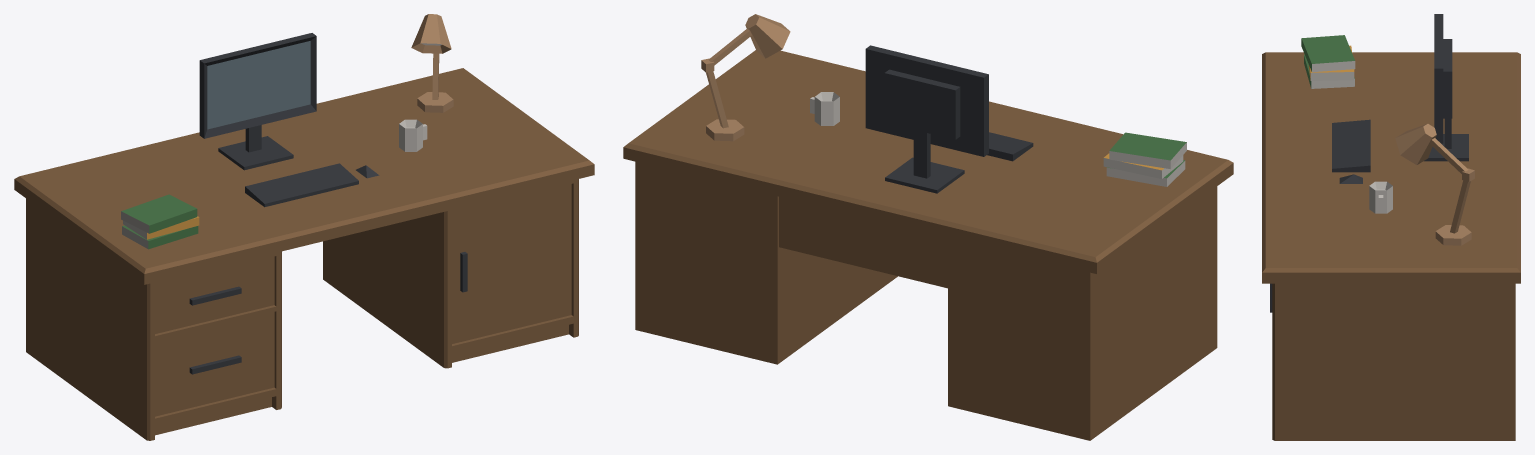
Rendered from faculty-office-desk-a6575a.glb.
3 views of the same model, side by side, from view 1: azimuth 30°, elevation 25°; view 2: azimuth 150°, elevation 25°; view 3: azimuth 270°, elevation 25° (orthographic). The views are drawn at different scales.
Parts seen in each view (by area): view 1: object 1, object 5, cupboard-leaf, drawer-file, drawer-top, object 6; view 2: object 1, object 5, object 6; view 3: object 1, object 5, object 6.
Boxes of the visible parts, x1,y1,x2,y2 form: object 1: [14, 68, 594, 440]; object 5: [199, 14, 453, 207]; cupboard-leaf: [452, 184, 571, 343]; drawer-file: [155, 312, 274, 416]; drawer-top: [155, 256, 274, 333]; object 6: [121, 119, 427, 249]; object 1: [623, 50, 1233, 440]; object 5: [701, 14, 1033, 193]; object 6: [810, 92, 1186, 186]; object 1: [1262, 52, 1520, 440]; object 5: [1332, 14, 1474, 245]; object 6: [1301, 35, 1392, 213].
Size of the model in its own units: 2 by 1.21 by 1.
